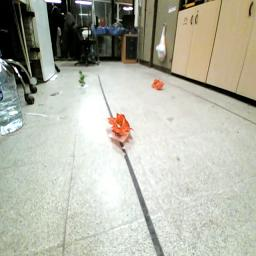herb: (79, 70, 89, 88)
wild: (109, 113, 137, 137), (151, 79, 167, 91)
